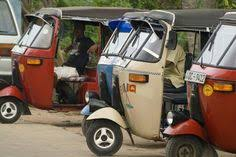tuk tuk: (88, 11, 164, 155), (164, 10, 235, 157), (1, 2, 81, 116)
